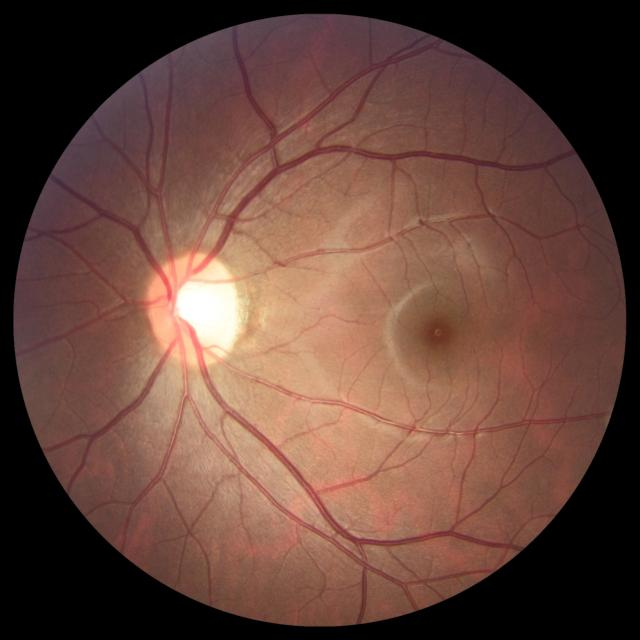OC: (174, 277, 237, 345)
OD: (148, 251, 244, 365)
